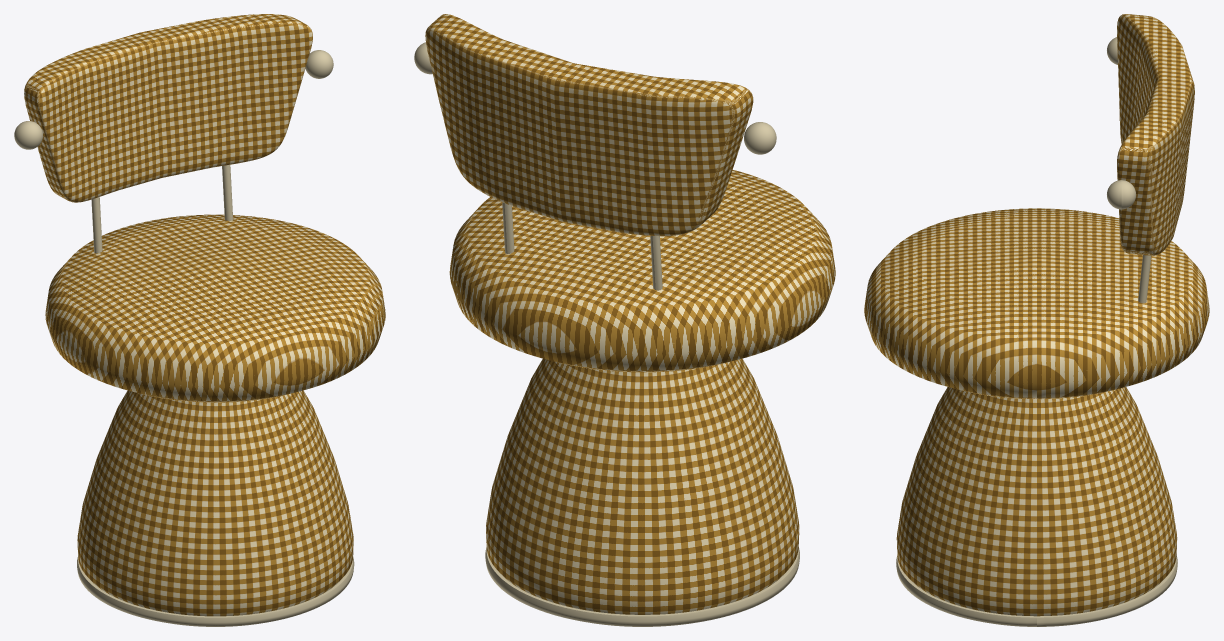
File: U05_chair_photo_reconstruction.glb
The picture shows the model from 3 angles, left to right: view 1: azimuth 30°, elevation 25°; view 2: azimuth 150°, elevation 25°; view 3: azimuth 270°, elevation 25°; orthographic projection. The views are drawn at different scales.
Visible parts, largest first — view 1: Mustard / ivory gingham, Warm polished nickel brass; view 2: Mustard / ivory gingham, Warm polished nickel brass; view 3: Mustard / ivory gingham, Warm polished nickel brass.
Boxes of the visible parts, x1,y1,x2,y2 form: Mustard / ivory gingham: (24,14,385,616); Warm polished nickel brass: (14,50,354,626); Mustard / ivory gingham: (425,14,835,614); Warm polished nickel brass: (414,42,799,626); Mustard / ivory gingham: (864,14,1209,616); Warm polished nickel brass: (896,37,1177,626).
Size of the model in its own units: 0.604 by 0.8934 by 0.564.
Materials: 3 (1 with a texture image).
